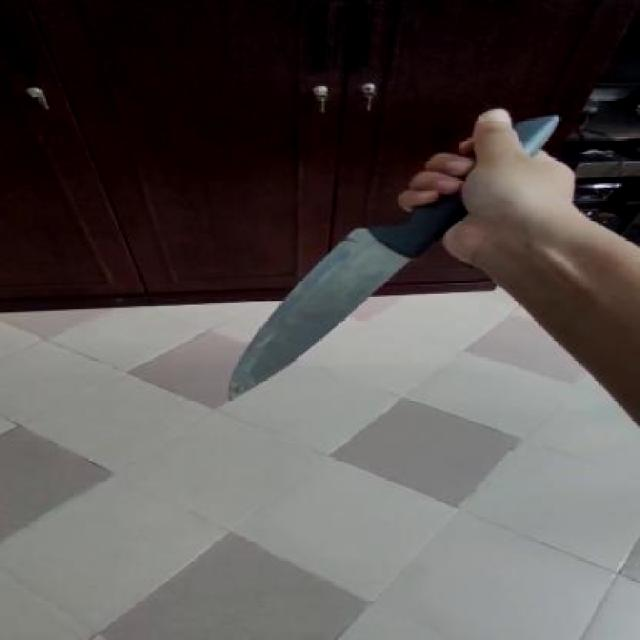knife: (194, 240, 423, 406)
